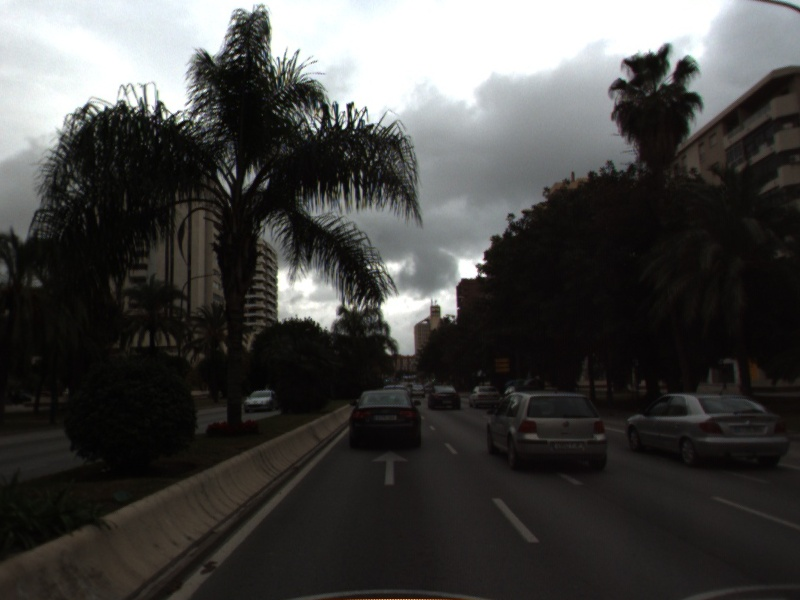STRAIGHT: (369, 448, 413, 487)
